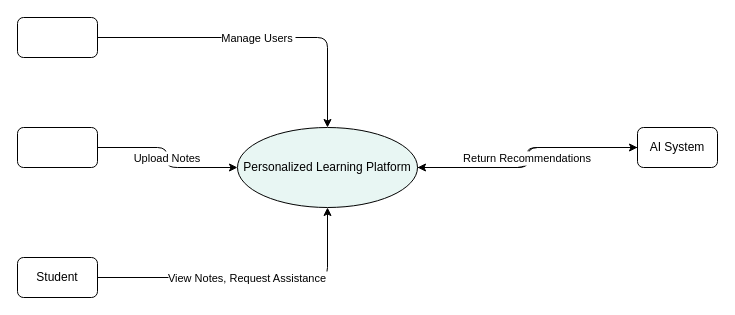
The diagram is 735 pixels wide and 315 high, and some of its shapes have lost their labels. Here are the shapes that lost their labels. From the top down, the box of each, then its label:
(16, 16, 98, 58): Admin
(16, 126, 98, 168): Teacher
